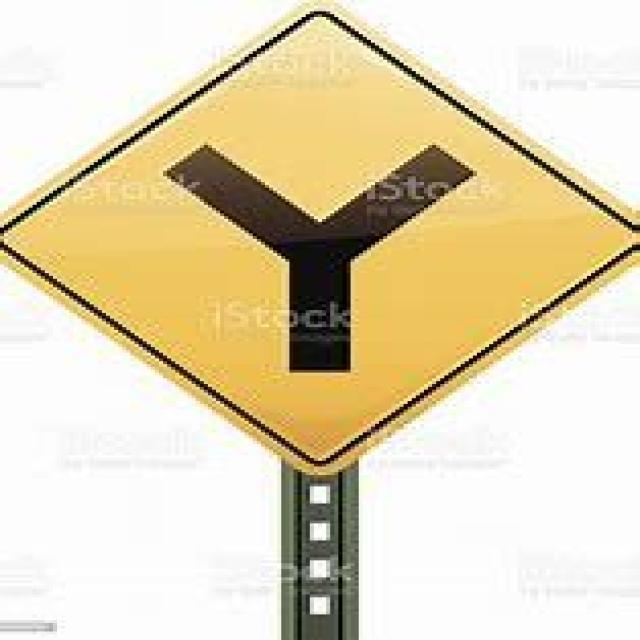y intersection: (20, 14, 611, 468)
